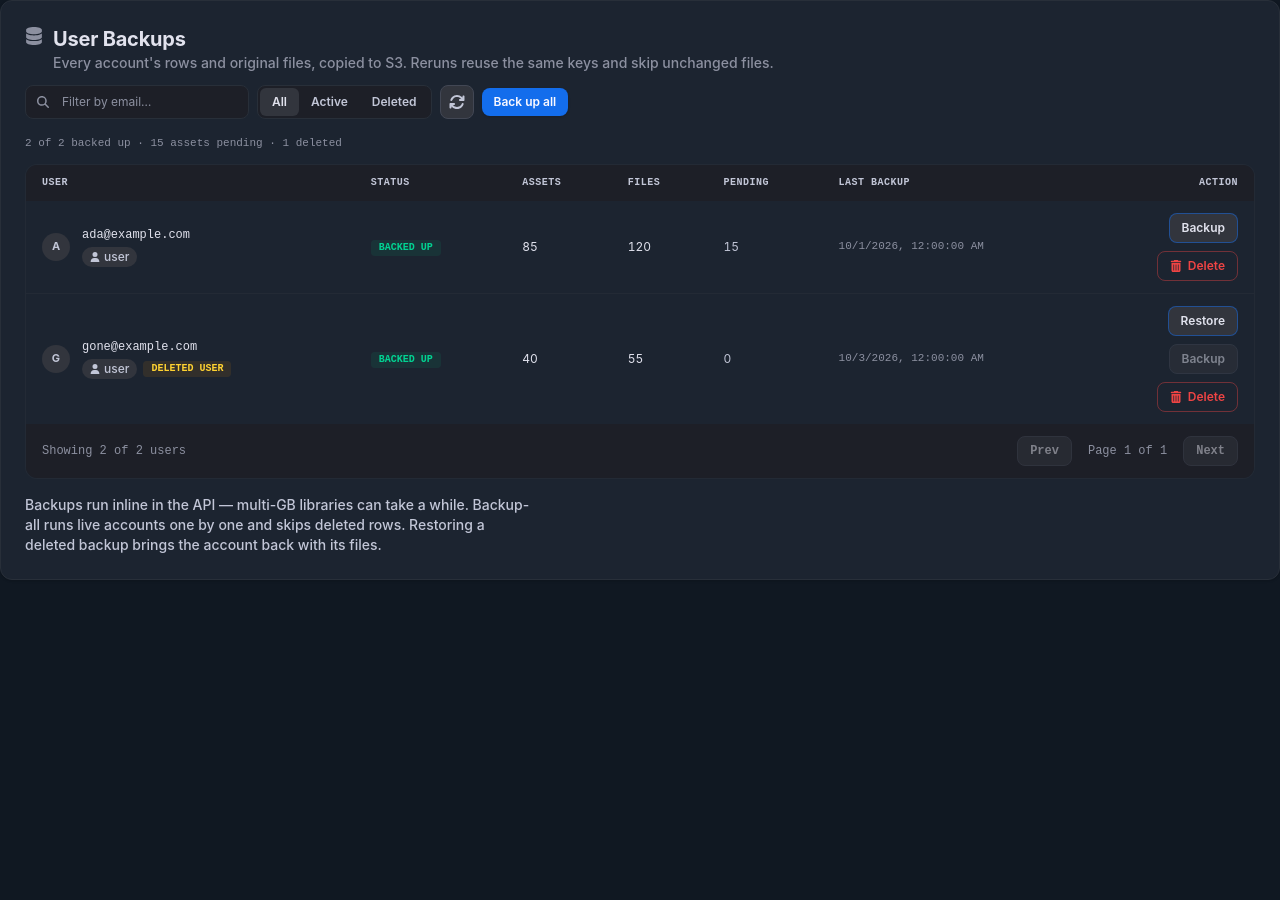
Test case: BackupSection orphans › toasts the fallback address when the backup-time address was taken
Expected: the text "gone@example.com" is shown, x1=82 y1=340 x2=197 y2=354
Click the button with aria-label "Restore gone@example.com". click: (1203, 320)
box: x1=1168 y1=306 x2=1238 y2=336
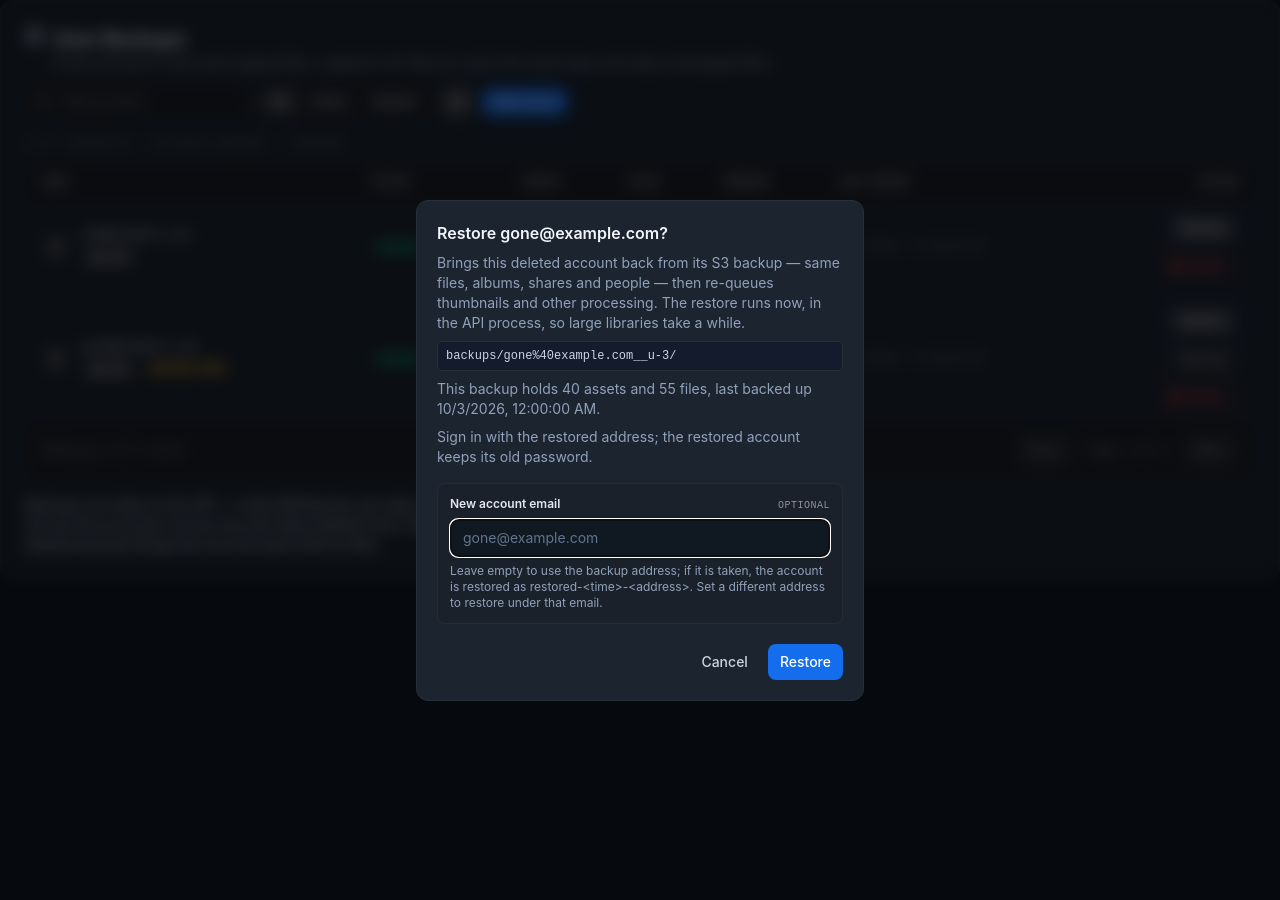
Click the button "Restore". click: (805, 662)
box: x1=768 y1=644 x2=843 y2=680
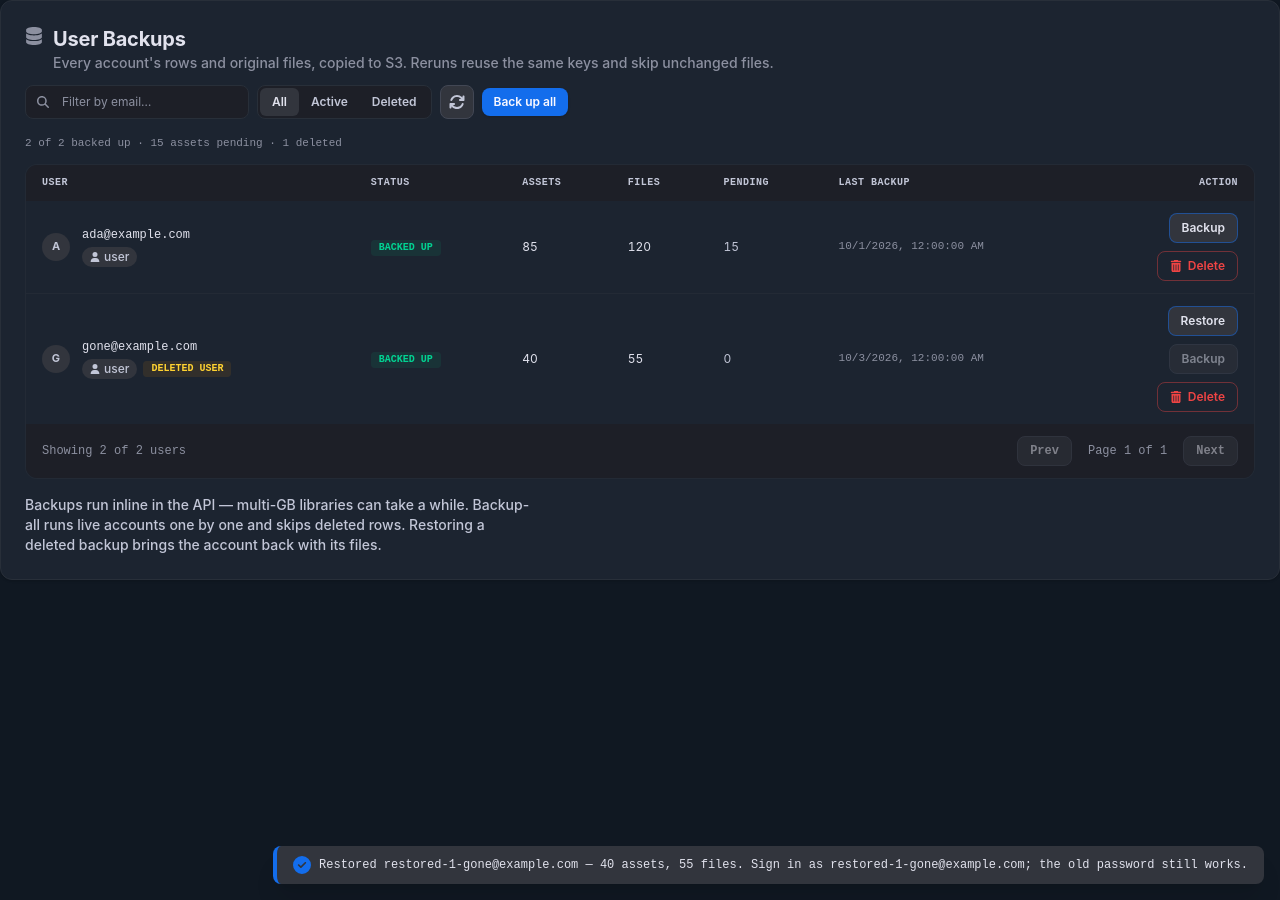
Expected: the text "Sign in as restored-1-gone@example.com" is shown, x1=319 y1=858 x2=1248 y2=872
